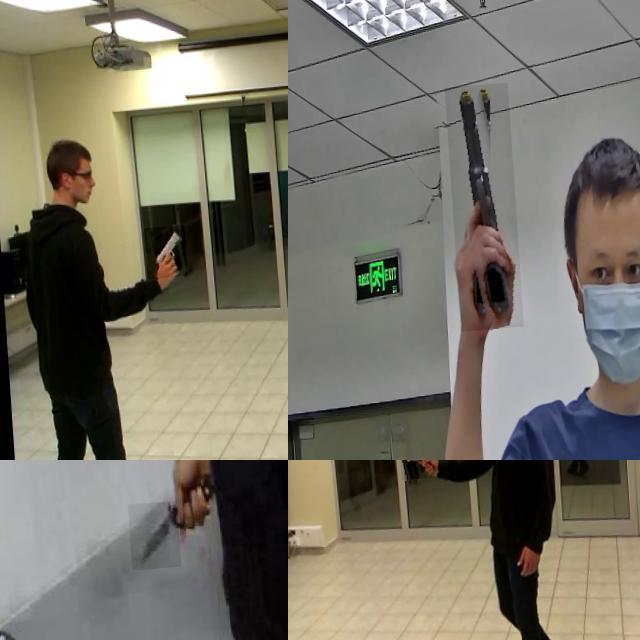-: (125, 510, 178, 579)
gun-knife-thesis - v11 Yolov5 augmented: (442, 87, 518, 336), (140, 228, 182, 282), (394, 460, 434, 483)
